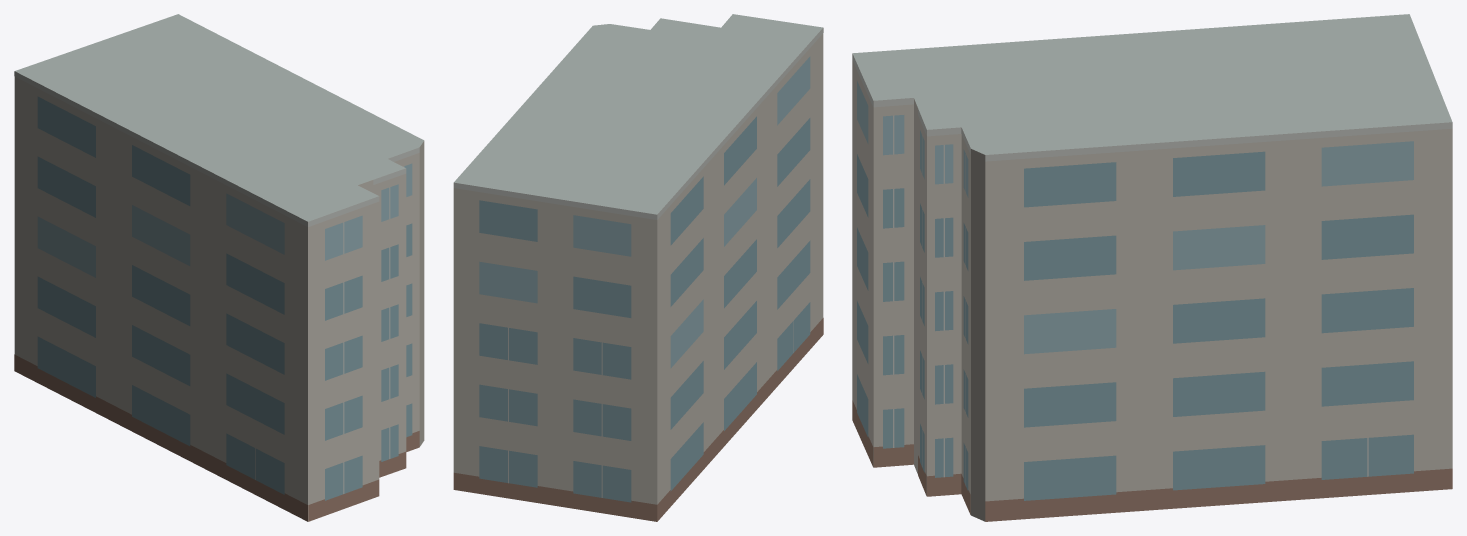
The model's file is survey-upis-32633268.glb.
3 views of the same model, side by side, from view 1: azimuth 30°, elevation 25°; view 2: azimuth 150°, elevation 25°; view 3: azimuth 270°, elevation 25° (orthographic). The views are drawn at different scales.
Visible parts, largest first — view 1: survey-upis-32633268.tmp; view 2: survey-upis-32633268.tmp; view 3: survey-upis-32633268.tmp.
Boxes of the visible parts, x1,y1,x2,y2 form: survey-upis-32633268.tmp: (14, 14, 424, 521); survey-upis-32633268.tmp: (453, 14, 823, 521); survey-upis-32633268.tmp: (852, 14, 1452, 521).
Bounding box in the file's own units: 11.28 × 13.67 × 20.28.
